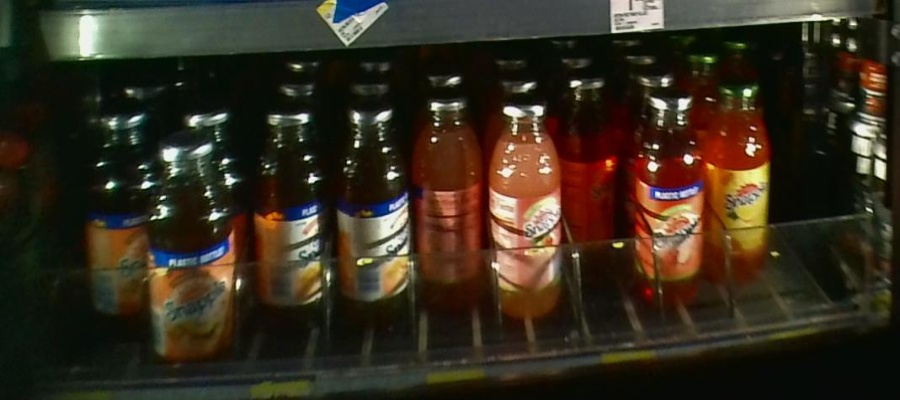bottle: (152, 133, 236, 362), (489, 91, 564, 320), (333, 93, 410, 316), (254, 103, 331, 316), (413, 85, 483, 310), (636, 89, 709, 304), (80, 96, 149, 323), (711, 71, 772, 281), (566, 76, 622, 255)
